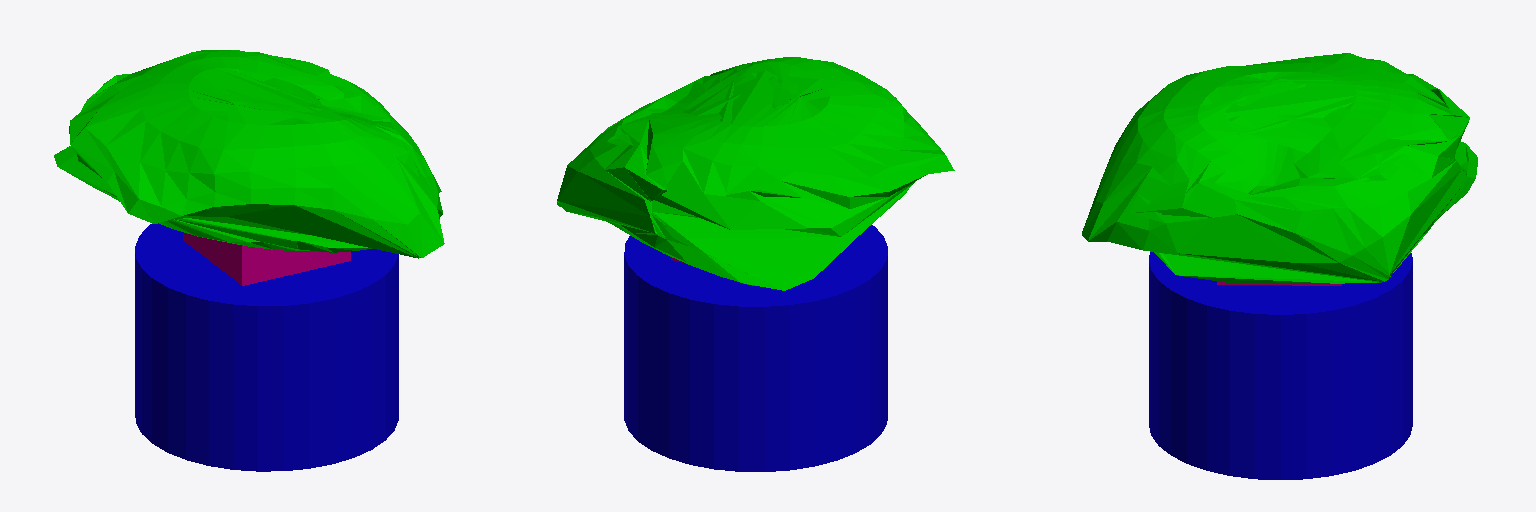
File: blob_and_cylinder.obj
The picture shows the model from 3 angles: view 1: azimuth 30°, elevation 25°; view 2: azimuth 150°, elevation 25°; view 3: azimuth 270°, elevation 25°; orthographic projection.
Parts seen in each view (by area): view 1: Sphere_Sphere.001, Cylinder, Cube; view 2: Sphere_Sphere.001, Cylinder; view 3: Sphere_Sphere.001, Cylinder.
Part boxes in pixels (x1,y1,x2,y2): Sphere_Sphere.001: (54, 50, 444, 258); Cylinder: (135, 223, 398, 471); Cube: (183, 232, 350, 285); Sphere_Sphere.001: (557, 57, 954, 290); Cylinder: (624, 225, 887, 471); Sphere_Sphere.001: (1082, 53, 1477, 283); Cylinder: (1149, 252, 1412, 479).
Bounding box in the file's own units: 5.85 × 5.79 × 6.39.